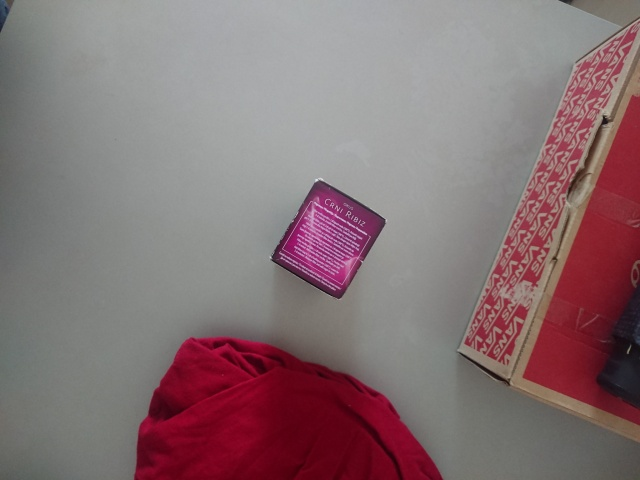Franck Black Currant Tea 60g: (267, 175, 390, 303)
